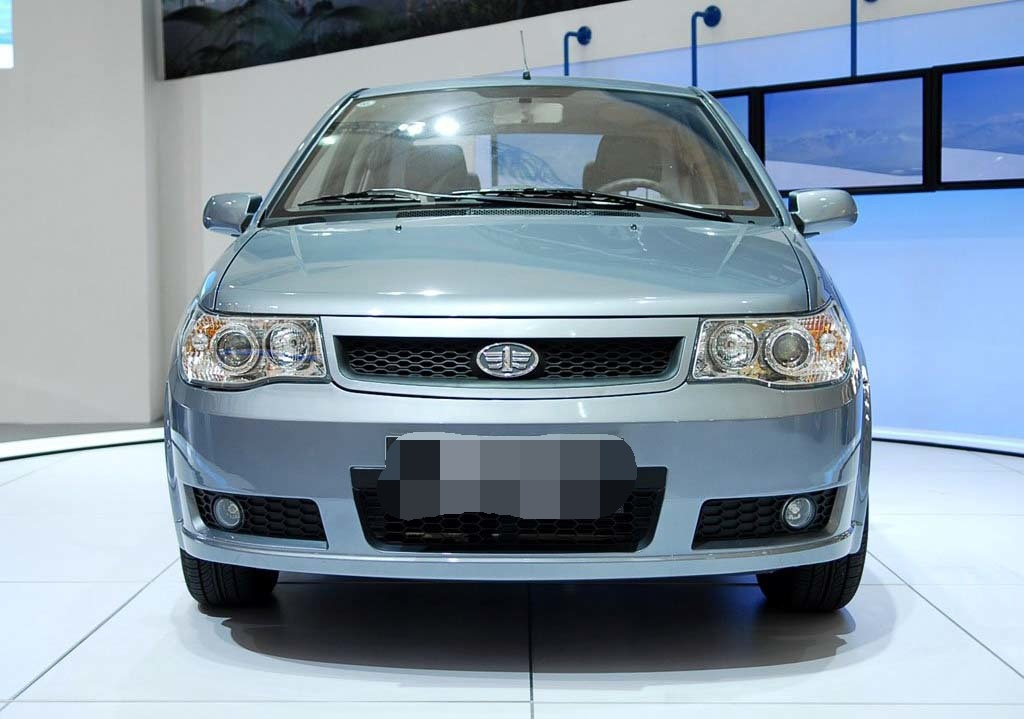family sedan: (157, 72, 880, 610)
